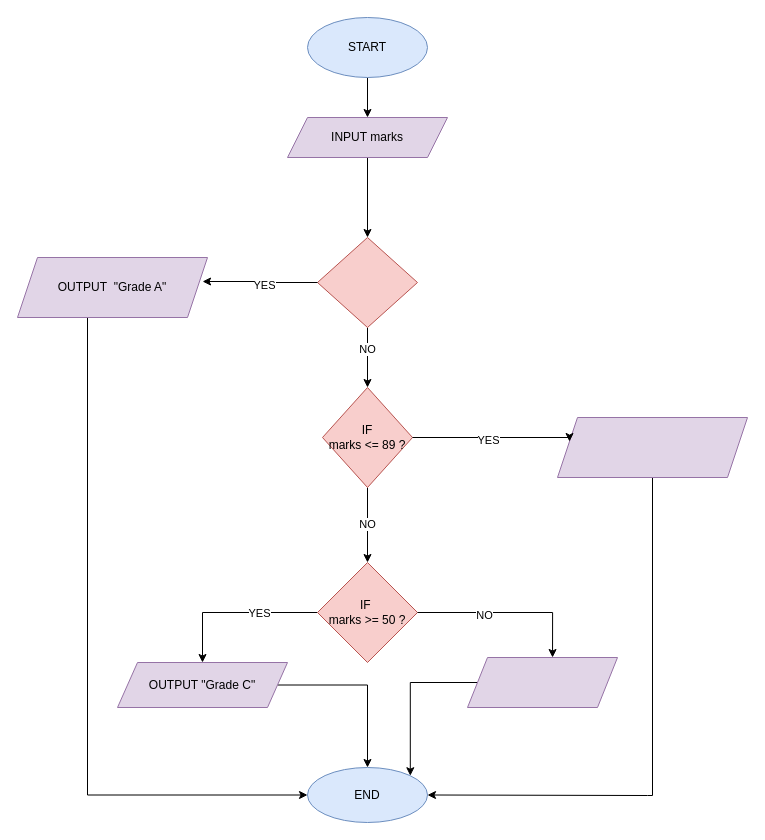
Some shapes in this 765 by 840 pixel diagram are drawn without their labels. Each missing label, with the box of its shape:
IF marks >= 90 ?: (316, 236, 418, 328)
OUTPUT "Fail": (466, 656, 618, 708)
OUTPUT "Grade B": (556, 416, 748, 478)
